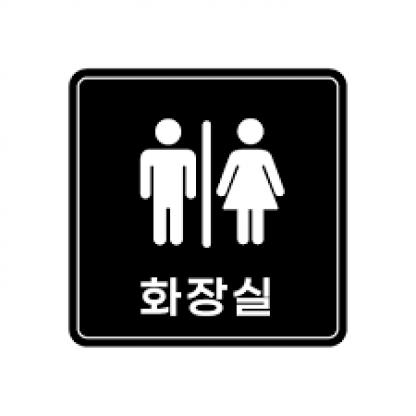toilet: (131, 112, 288, 256)
